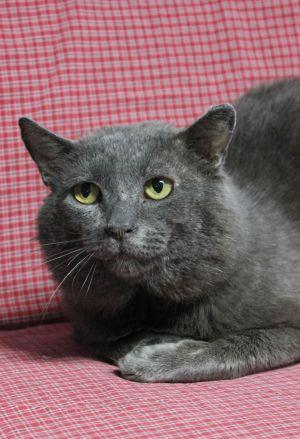rblue: (11, 86, 258, 314)
